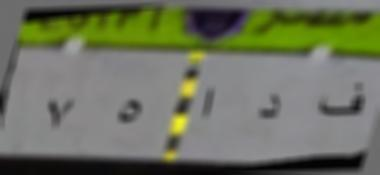5: (111, 93, 144, 128)
7: (44, 86, 74, 134)
alif: (198, 80, 217, 124)
daal: (253, 89, 285, 128)
faa: (313, 77, 368, 123)
